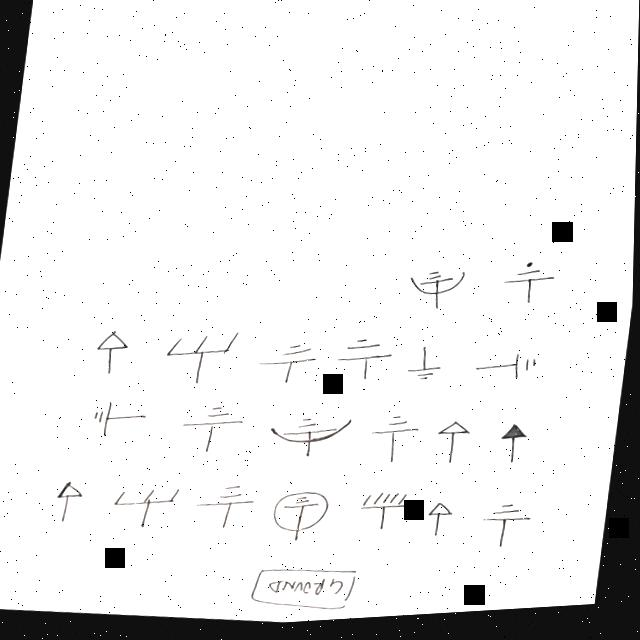ground: (266, 398, 356, 462), (158, 322, 248, 385), (470, 494, 547, 557), (194, 478, 261, 531), (111, 480, 186, 526), (266, 489, 333, 540), (362, 409, 429, 460), (179, 401, 248, 447), (333, 334, 395, 383), (502, 259, 558, 313), (405, 265, 465, 315), (351, 486, 417, 529), (260, 341, 320, 387), (81, 396, 132, 441), (428, 418, 476, 464), (89, 326, 136, 371), (491, 423, 540, 465), (487, 353, 541, 391), (46, 475, 91, 518), (402, 352, 448, 390), (426, 504, 462, 533)
